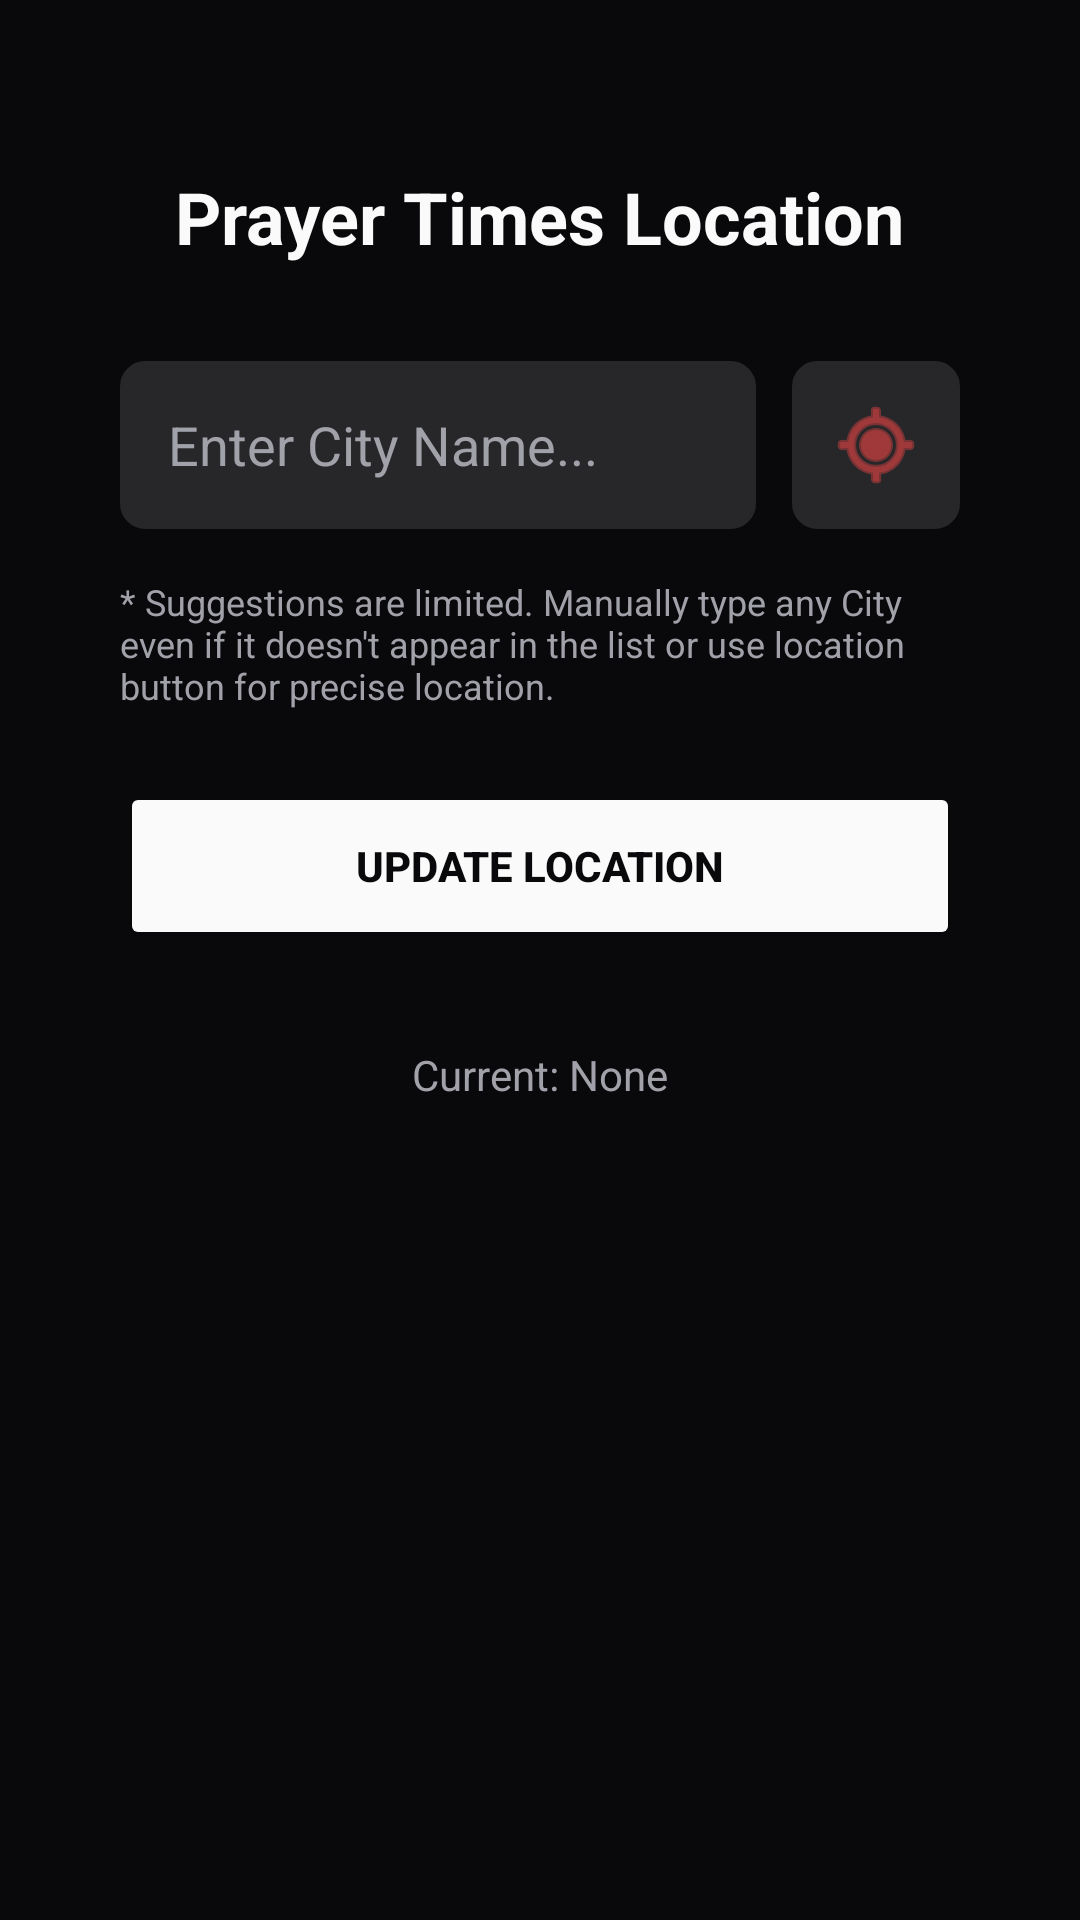

Point at icon controls on the screen. Image size 1080px x 1920px, points as [x,y].
mylocation: [876,445]
